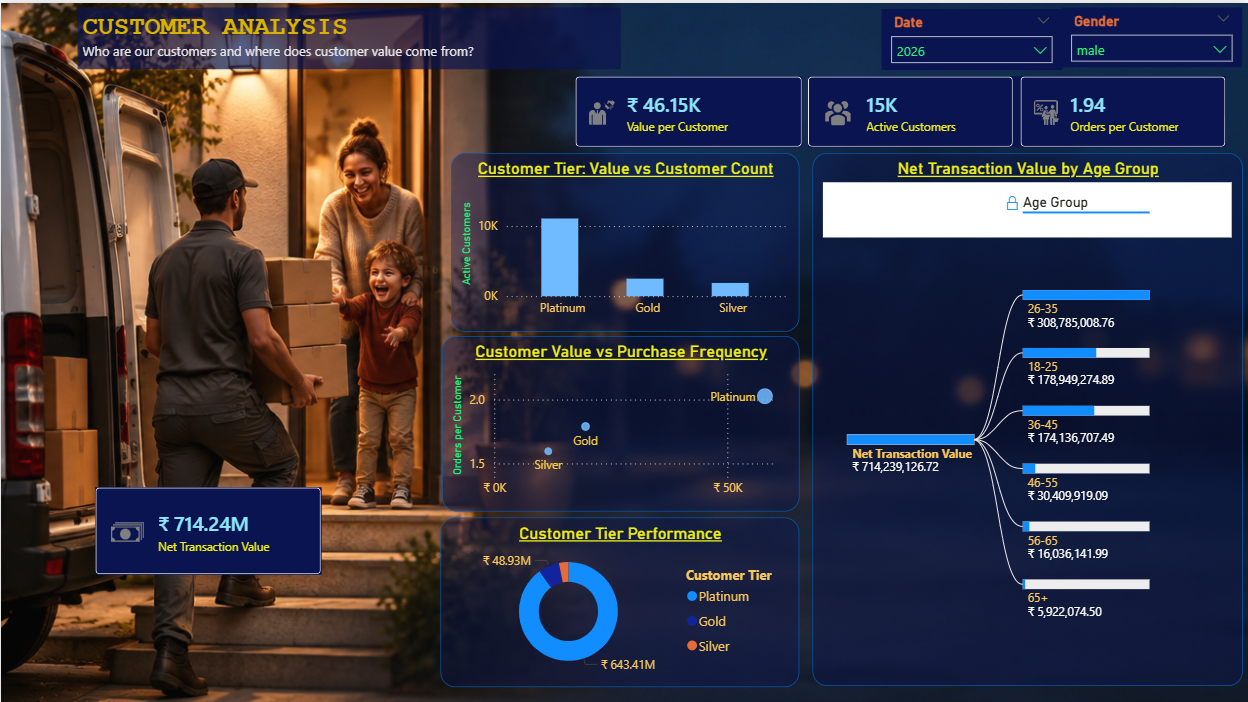

What the dashboard file says about the page in this screenshot:
{"tool":"powerbi","page":{"name":"Customer Analysis","canvas":[1280,720],"ordinal":2},"visuals":[{"type":"slicer","fields":{"Values":["Dim_Date.Year","Dim_Date.Month"]},"box":[903,6,185.1,62.7],"z":0},{"type":"slicer","fields":{"Values":["Dim_Customers.gender"]},"box":[1088.3,4.9,185,61.6],"z":1000},{"type":"cardVisual","fields":{"Data":["_Measure.Total Customers","_Measure.Net Transaction Value","_Measure.Orders per Customer","_Measure.Value per Customer"]},"box":[4.7,79.1,1268.6,72.9],"z":2000},{"type":"clusteredBarChart","title":"Customer Tier Performance","fields":{"Category":["Dim_Customers.customer_tier"],"Y":["_Measure.Net Transaction Value"]},"box":[5.2,387.9,492.8,194.8],"z":3000},{"type":"clusteredColumnChart","title":"Customer Tier: Value vs Customer Count","fields":{"Category":["Dim_Customers.customer_tier"],"Y":["_Measure.Total Customers"]},"box":[4.7,153.5,411,232.6],"z":4000},{"type":"scatterChart","title":"Customer Value vs Purchase Frequency","fields":{"X":["_Measure.Value per Customer"],"Size":["_Measure.Total Customers"],"Y":["_Measure.Orders per Customer"],"Category":["Dim_Customers.customer_tier"]},"box":[502.4,387.8,429.3,195.1],"z":5000},{"type":"clusteredColumnChart","title":"Customer Distribution by Tier","fields":{"Y":["_Measure.Value per Customer by Tier"],"Category":["Dim_Customers.customer_tier"]},"box":[937.5,152.6,336.1,564.6],"z":6000},{"type":"clusteredBarChart","title":"Net Transaction Value by Age Group","fields":{"Y":["_Measure.Net Transaction Value"],"Category":["Dim_Customers.age_group"]},"box":[421.8,153.5,510.2,232.6],"z":7000},{"type":"pivotTable","fields":{"Rows":["Dim_Customers.customer_tier"],"Values":["_Measure.Total Customers","_Measure.Net Transaction Value","_Measure.Total Orders","_Measure.Orders per Customer","_Measure.Value per Customer","_Measure.Repeat Customer Rate"]},"box":[5.2,584.8,926.7,132.5],"z":8000},{"type":"textbox","box":[16.7,3,798,65.1],"z":9000}]}

Visuals, with their boxes in screenshot pixels (x1, y1, x2, y2), scaled from the page's 1280x720 canvas onto the 1248x702 screenshot:
slicer - Dim_Date.Year x Dim_Date.Month: 880,6,1061,67
slicer - Dim_Customers.gender: 1061,5,1241,65
cardVisual - _Measure.Total Customers x _Measure.Net Transaction Value: 5,77,1241,148
"Customer Tier Performance" clusteredBarChart: 5,378,486,568
"Customer Tier: Value vs Customer Count" clusteredColumnChart: 5,150,405,376
"Customer Value vs Purchase Frequency" scatterChart: 490,378,908,568
"Customer Distribution by Tier" clusteredColumnChart: 914,149,1242,699
"Net Transaction Value by Age Group" clusteredBarChart: 411,150,909,376
pivotTable - Dim_Customers.customer_tier x _Measure.Total Customers: 5,570,909,699
textbox: 16,3,794,66
